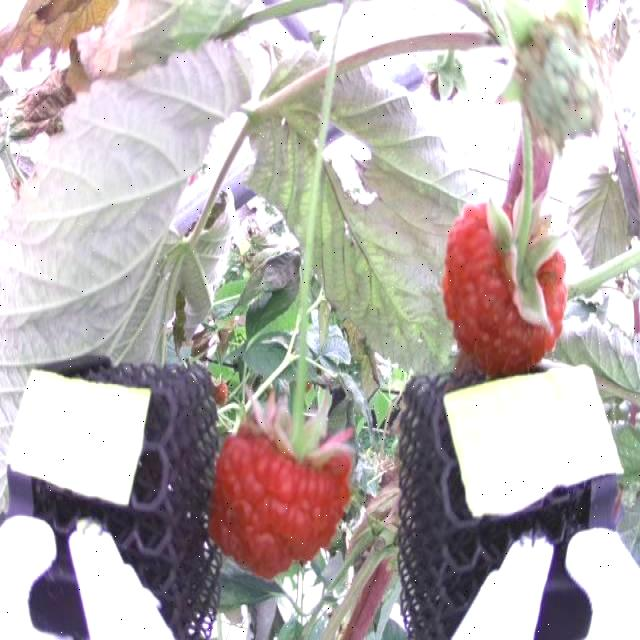Riped berries: (434, 194, 575, 372), (214, 408, 354, 577)
